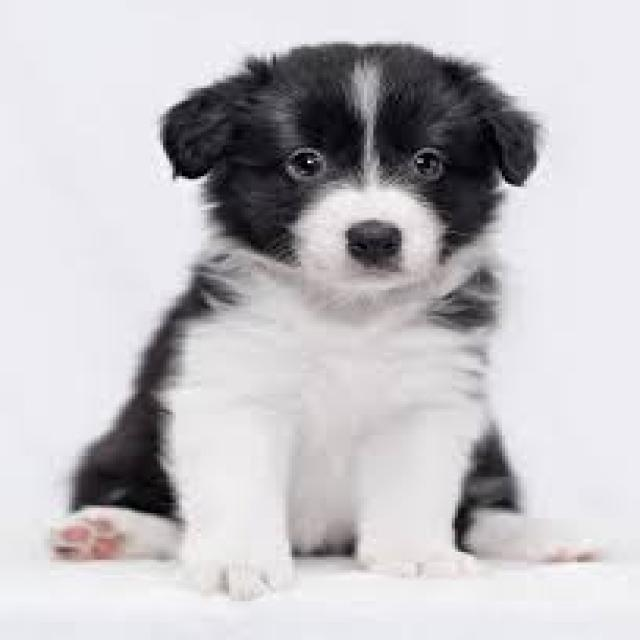BORDER_COLLIE: (56, 42, 635, 604)
